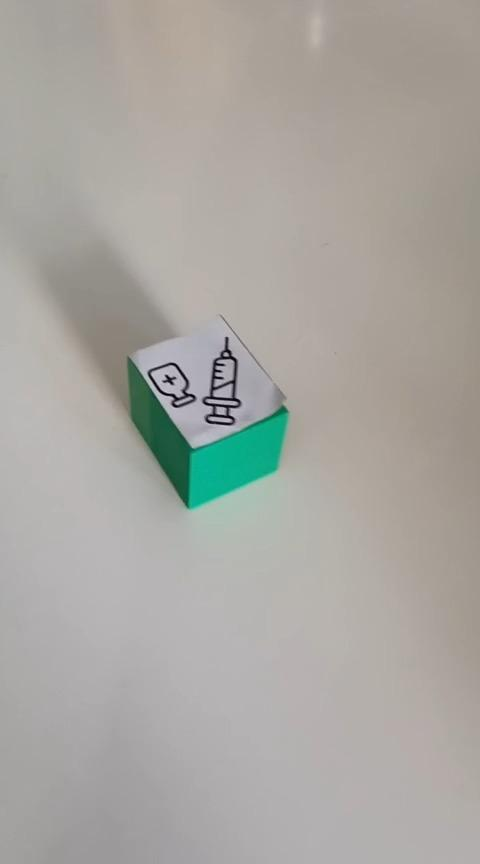antiseptic cream: (125, 312, 290, 510)
